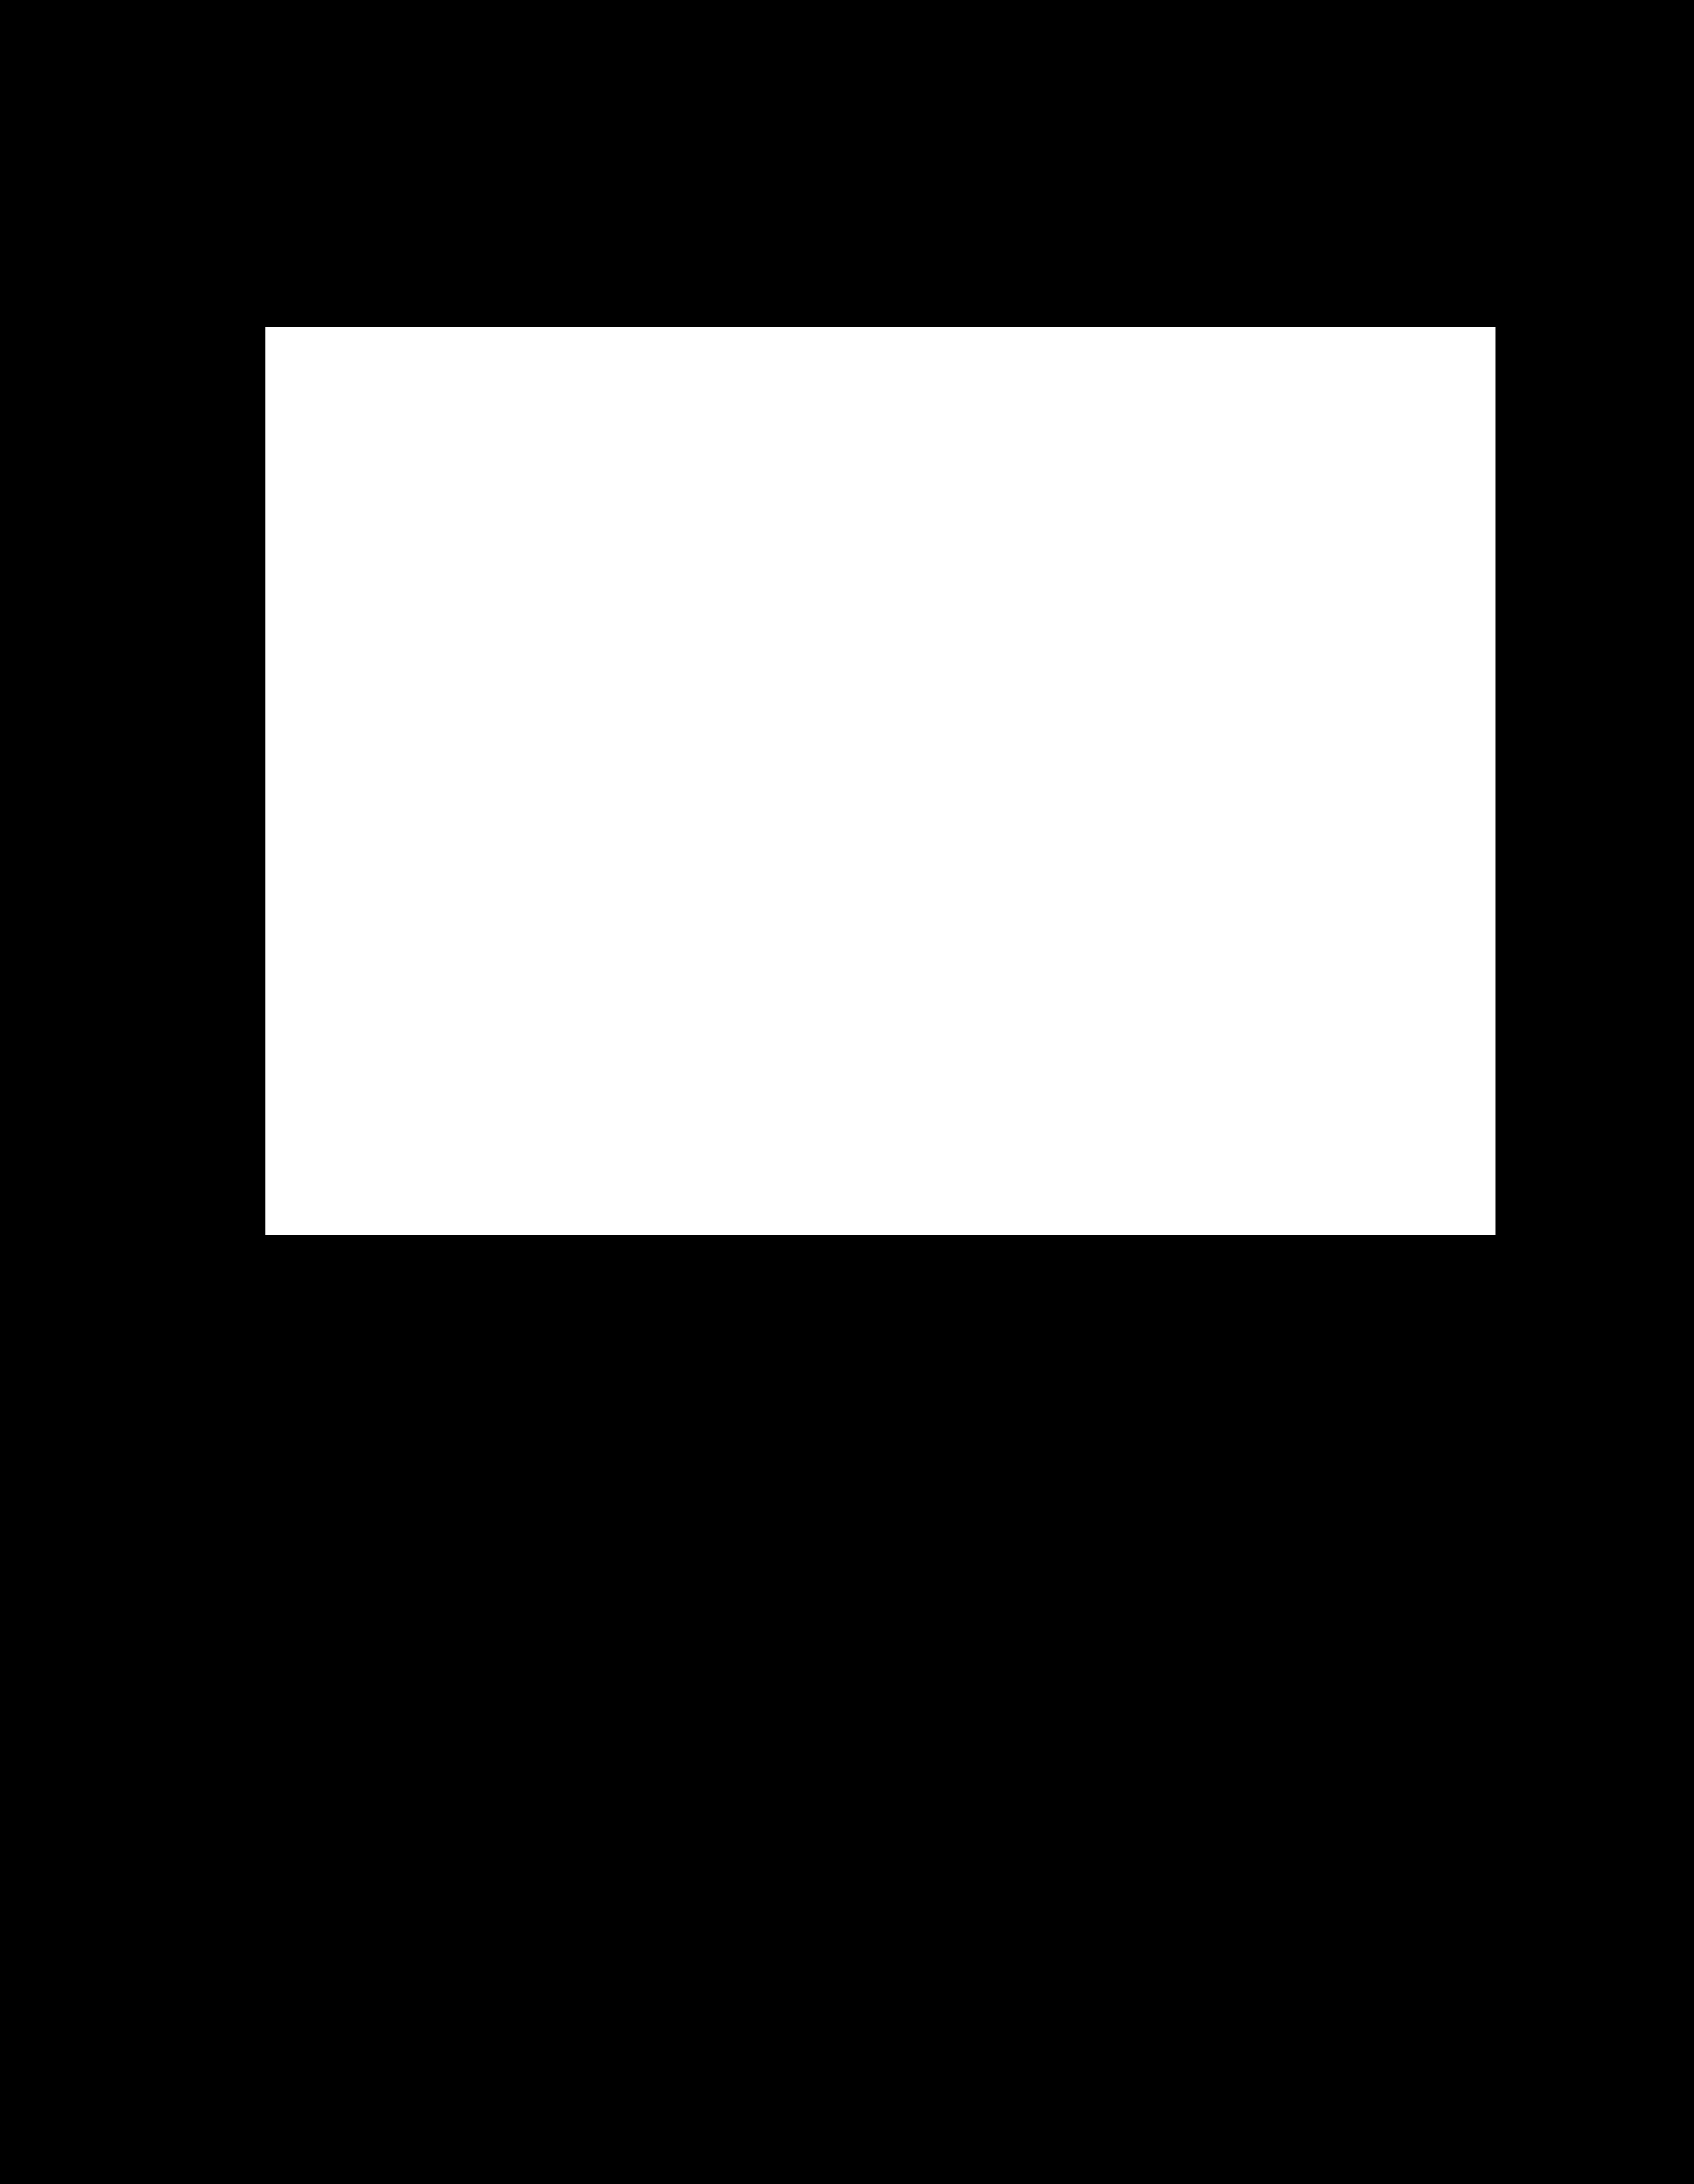table: (266, 326, 1496, 1234)
